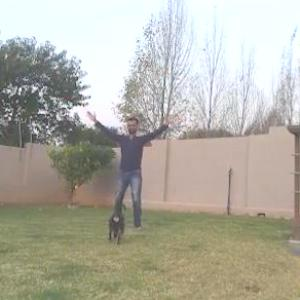takeoff: (91, 111, 183, 225)
